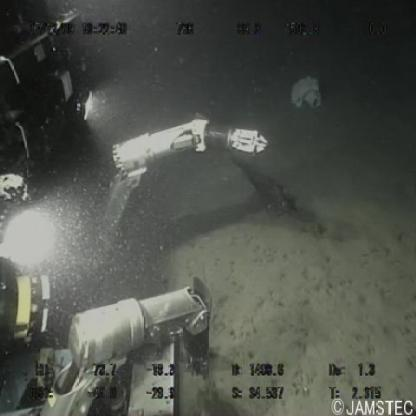Bio: (225, 156, 299, 223)
Rov: (1, 1, 270, 415)
Rác: (289, 73, 325, 117)
